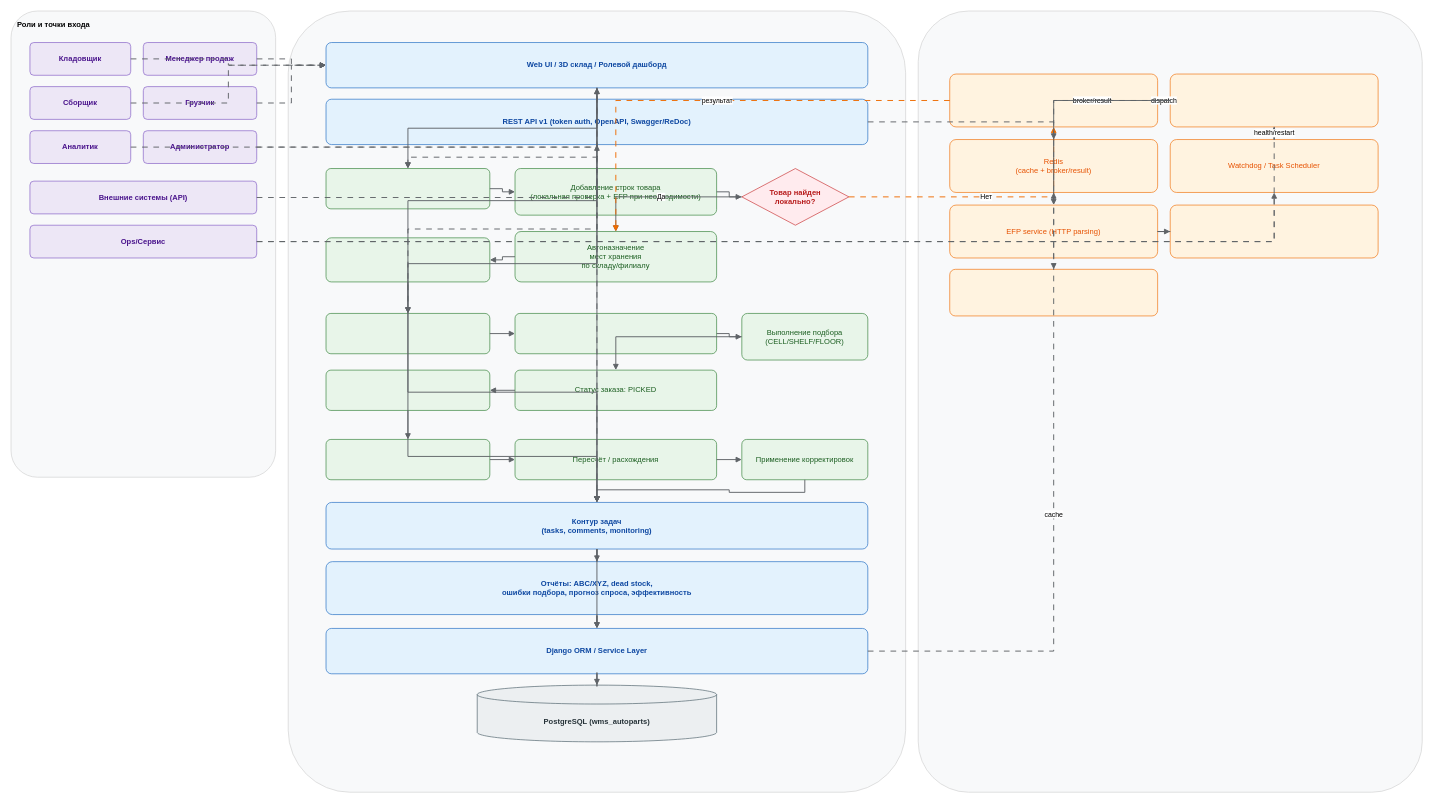
Some shapes in this 1433 by 803 pixel diagram are drawn without their labels. Each missing label, with the box of its shape:
API Docs (Swagger/ReDoc/OpenAPI): (949, 269, 1158, 316)
Celery Worker: (1170, 73, 1378, 127)
EFP Parts (efp-parts.ru): (1170, 204, 1378, 258)
EFP Queue Manager (enqueue/status/fallback): (949, 73, 1158, 127)
Генерация задач подбора: (514, 313, 717, 354)
Завершение приёмки + обновление остатков: (325, 237, 490, 282)
Запуск инвентаризации: (325, 439, 490, 480)
Интеграции и фон: (918, 10, 1422, 792)
Операционный контур WMS: (288, 10, 906, 792)
Отгрузка и выдача: (325, 369, 490, 410)
Создание приёмки: (325, 168, 490, 209)
Создание/подтверждение заказа: (325, 313, 490, 354)
